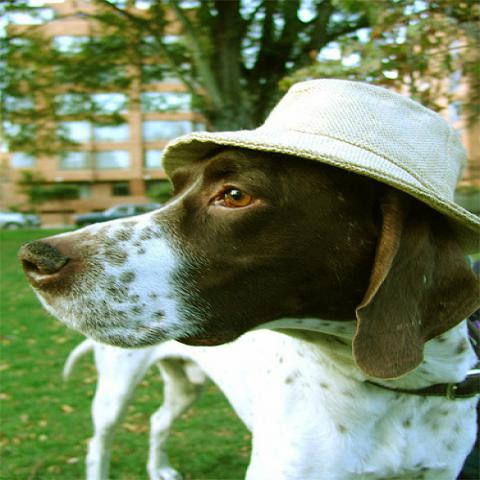car: (76, 204, 158, 227), (0, 209, 28, 231)
